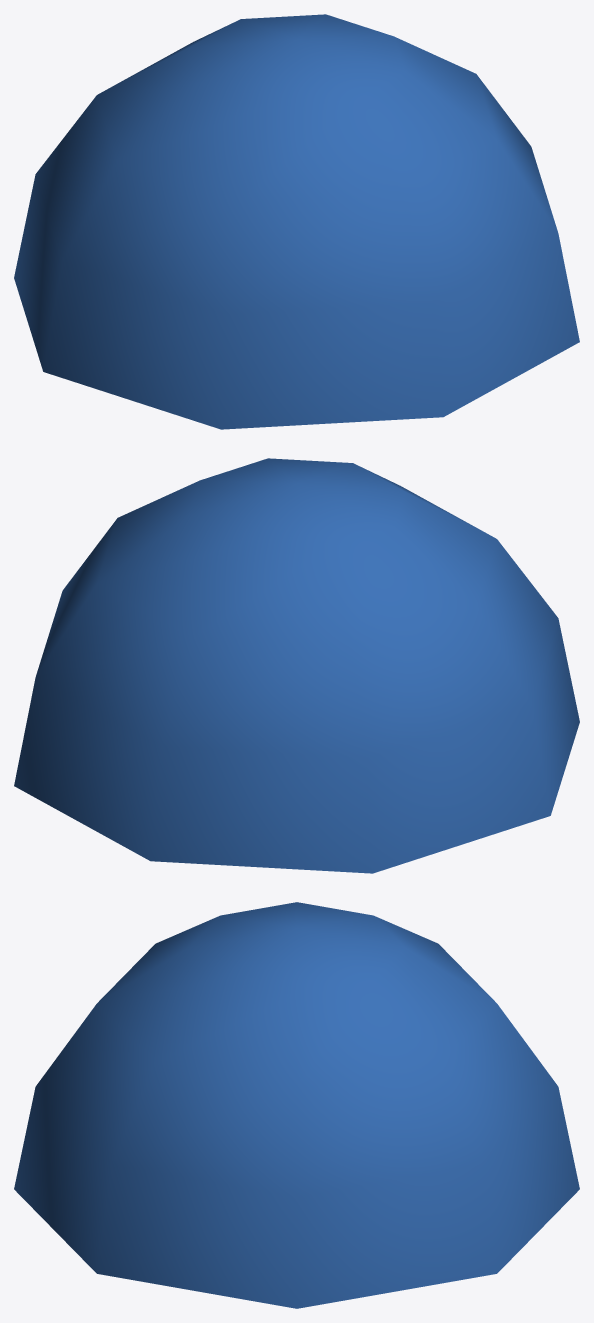
File: SHP0110009.fbx
3 renders of one model, top to bottom at view 1: azimuth 30°, elevation 25°; view 2: azimuth 150°, elevation 25°; view 3: azimuth 270°, elevation 25°, orthographic. The views are drawn at different scales.
Visible parts, largest first — view 1: smSHP0110009; view 2: smSHP0110009; view 3: smSHP0110009.
Part boxes in pixels (box(x1,y1,x2,y2)): smSHP0110009: box(14, 14, 579, 429); smSHP0110009: box(14, 458, 579, 873); smSHP0110009: box(14, 902, 579, 1308).
Size of the model in its own units: 145 by 73.69 by 145.
Materials: 1 (1 with a texture image).
